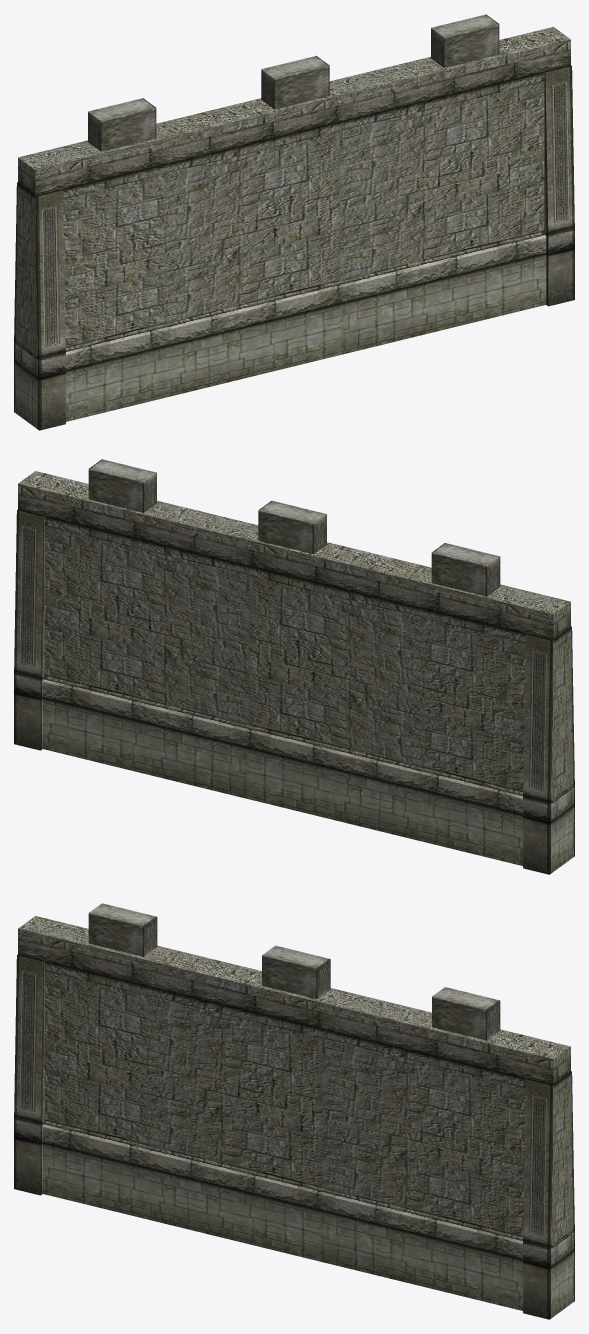
The model's file is ob-bigdam-02.fbx.
The picture shows the model from 3 angles, top to bottom: view 1: azimuth 30°, elevation 25°; view 2: azimuth 150°, elevation 25°; view 3: azimuth 330°, elevation 25°; orthographic projection.
Parts seen in each view (by area): view 1: ob-bigdam-01; view 2: ob-bigdam-01; view 3: ob-bigdam-01.
Boxes of the visible parts, x1,y1,x2,y2 form: ob-bigdam-01: (14,14,574,430); ob-bigdam-01: (14,459,574,874); ob-bigdam-01: (14,903,574,1319).
Bounding box in the file's own units: 10.01 × 5.14 × 0.8224.
